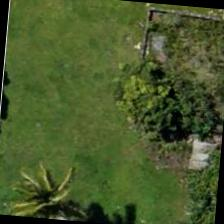Kelapa_Sawit: (5, 158, 100, 223)
